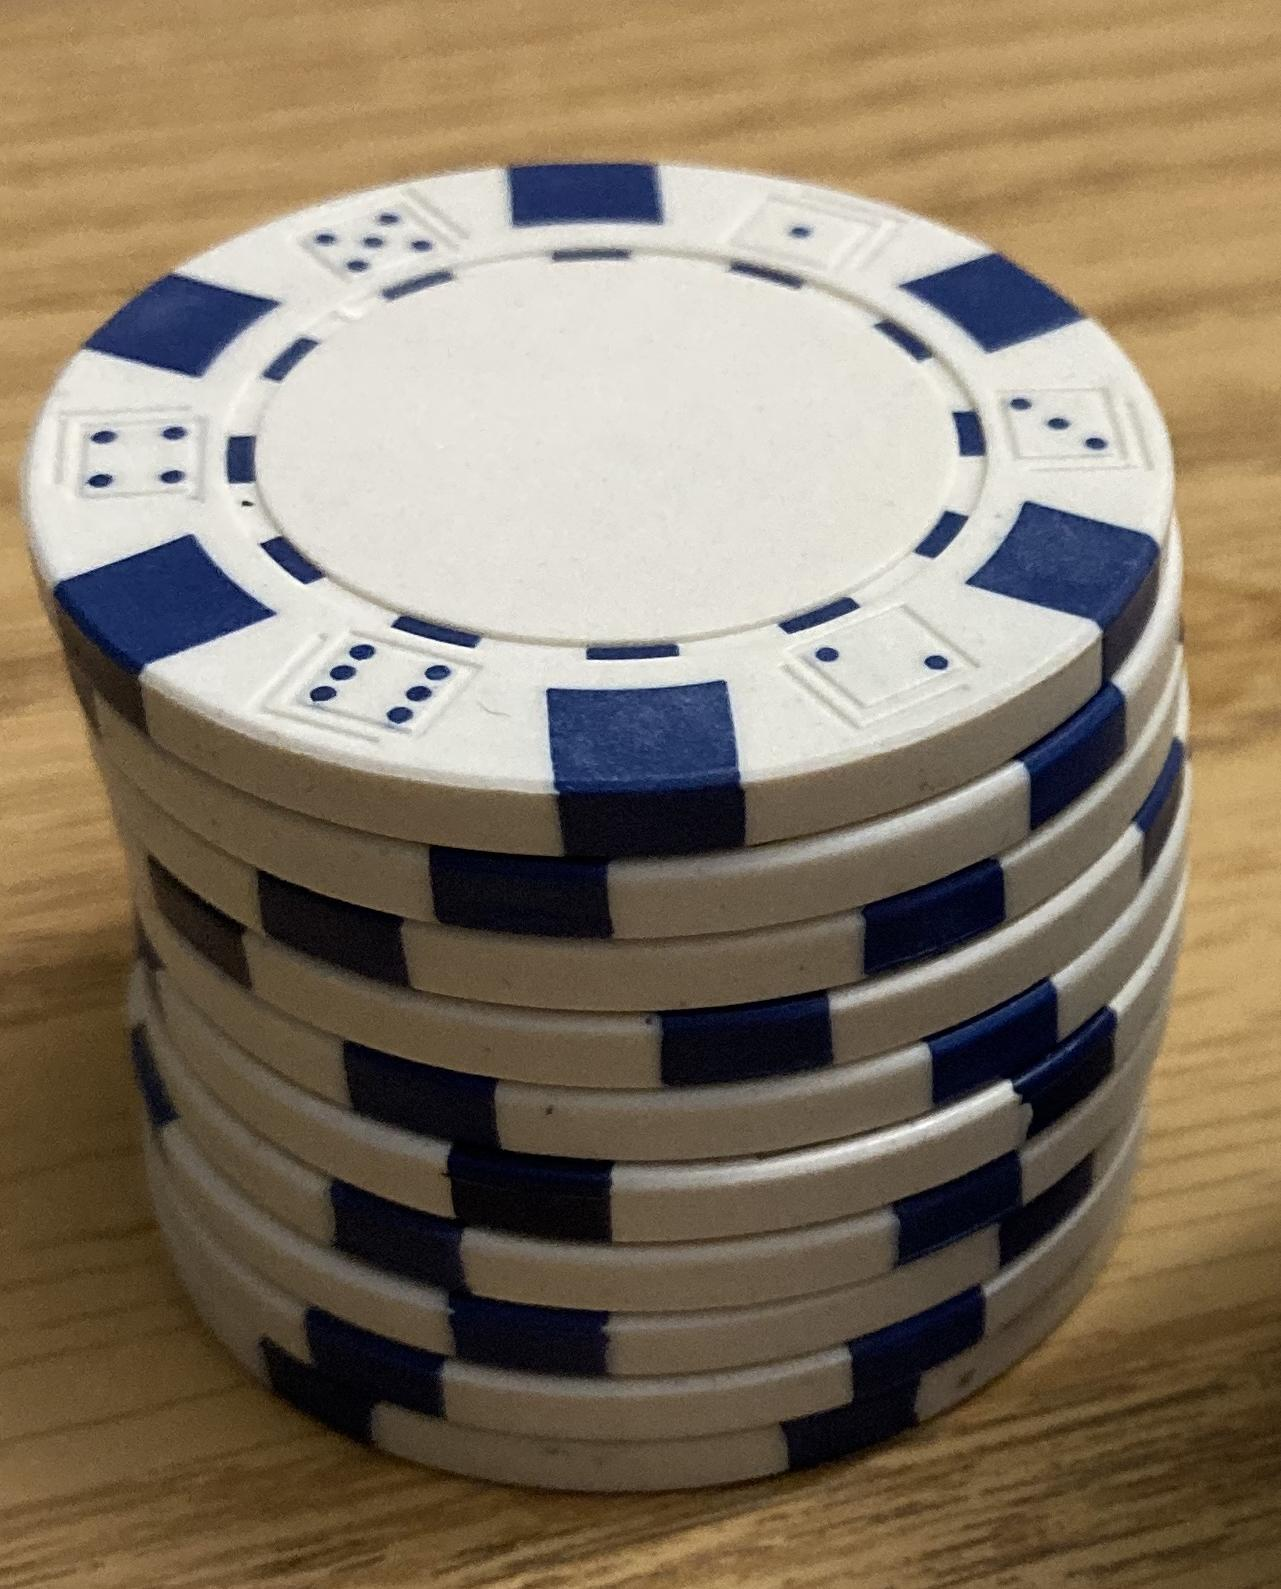Chip: (1, 1, 1281, 1589)
